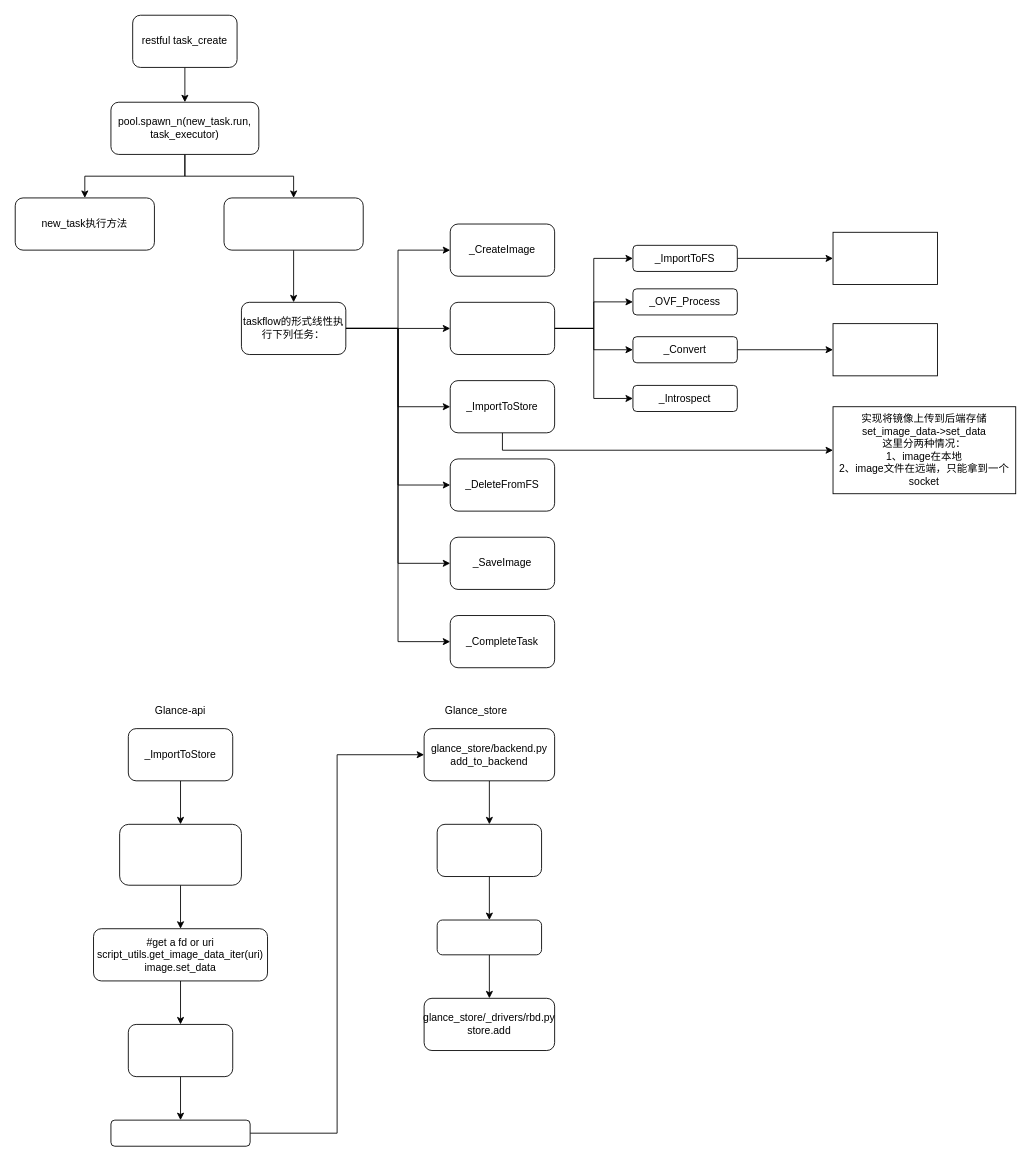
The diagram is 1031 pixels wide and 1161 high, and some of its shapes have lost their labels. Each missing label, with the centre of its shape:
"glance/location.py 中set_data" goes at pixel 180 1050.
"self.store_api.add_to_backend" goes at pixel 180 1132.
"set_image_data(image, file_path or self.uri, self.task_id)" goes at pixel 180 854.
"store.add" goes at pixel 489 937.
"store_add_to_backend" goes at pixel 489 850.
"Subflow->limbo" goes at pixel 502 328.
"task_executor taskflow_executor.TaskExecutor" goes at pixel 293 223.
"使用qemu-img命令实现格式转换（由qcow2到raw）" goes at pixel 884 349.
"实现从远端拉取到本地，需要在conf文件中指定本地路径" goes at pixel 884 257.
